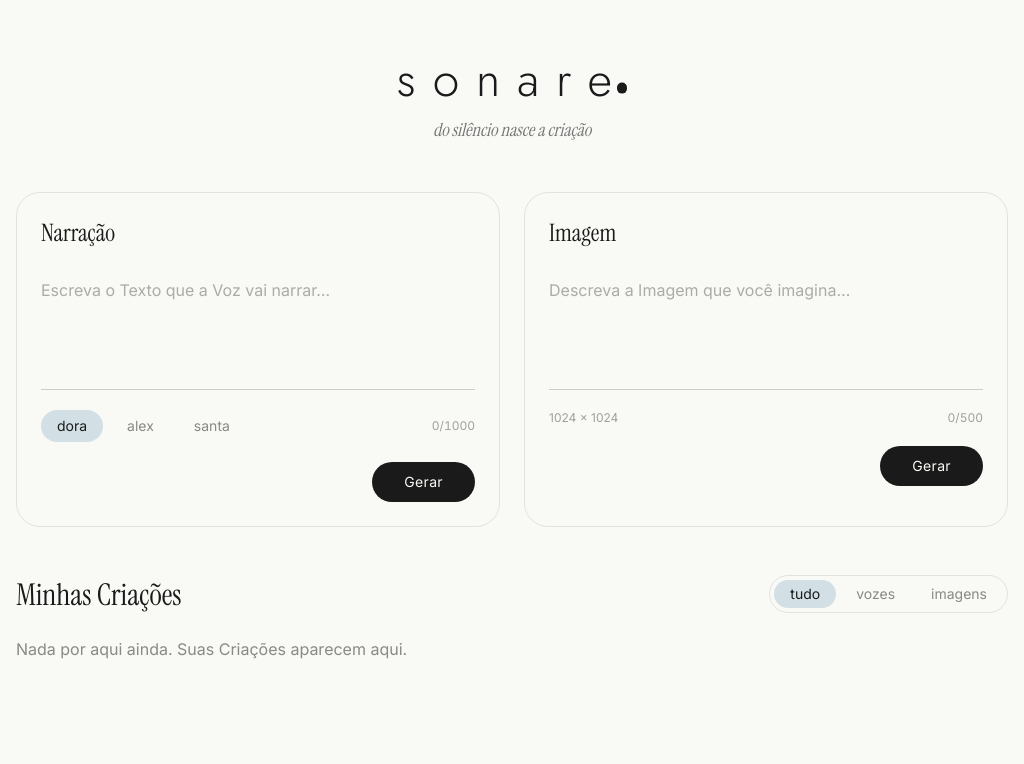
it: Estudio: Narração › uma Narração que falha avisa que não deu certo
The image size is (1024, 764).
In the text box labelled "Texto": (258, 330) [41,269,475,390], type "Olá!"
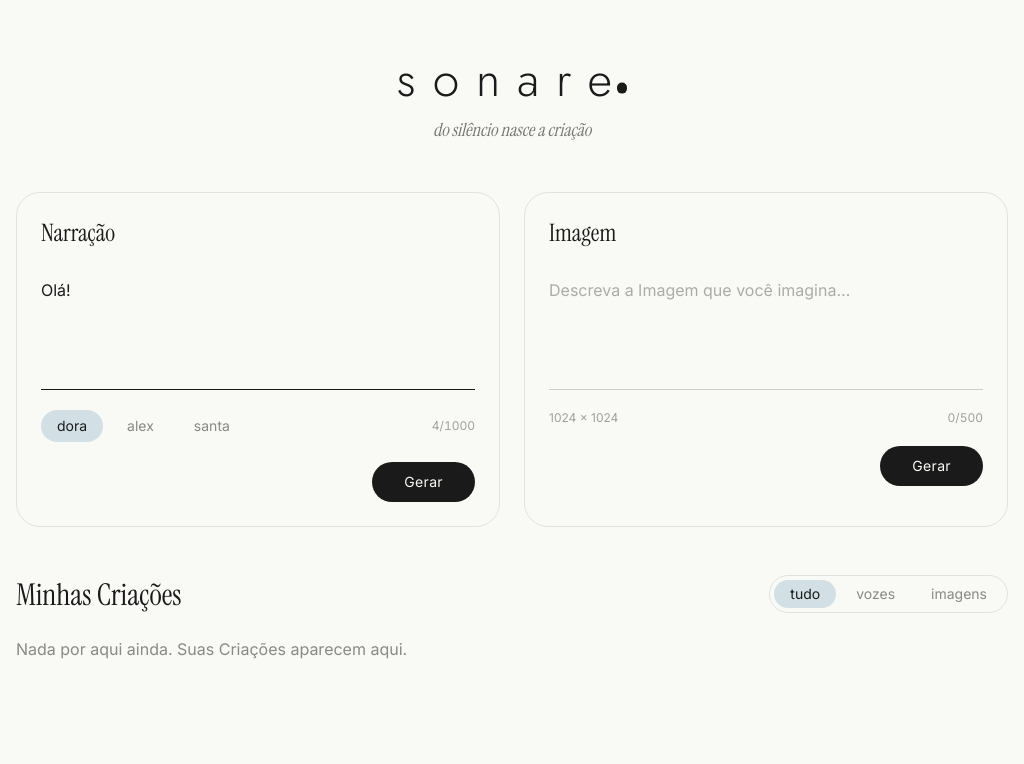
Click the button with aria-label "Gerar Narração": (424, 482) [372,462,475,502]
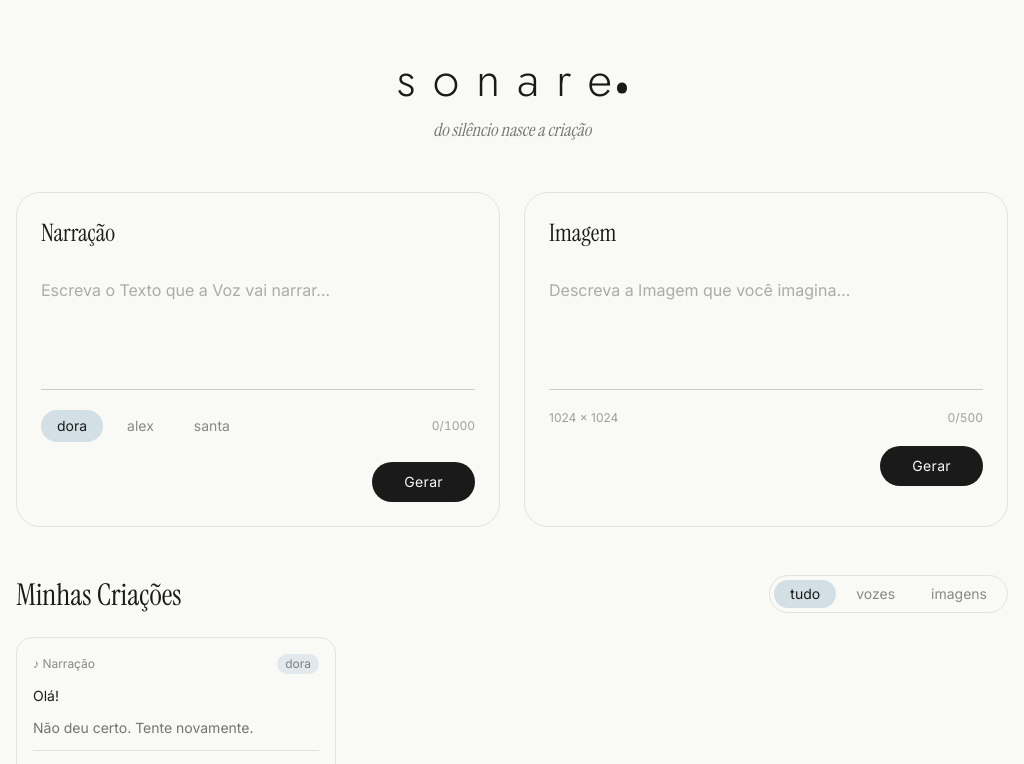
Expected: the text "Não deu certo. Tente novamente." is shown, [33,719,254,736]
